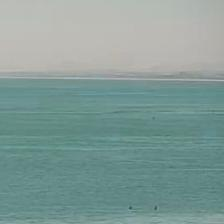surfer: (128, 206, 133, 210), (154, 206, 158, 210)
